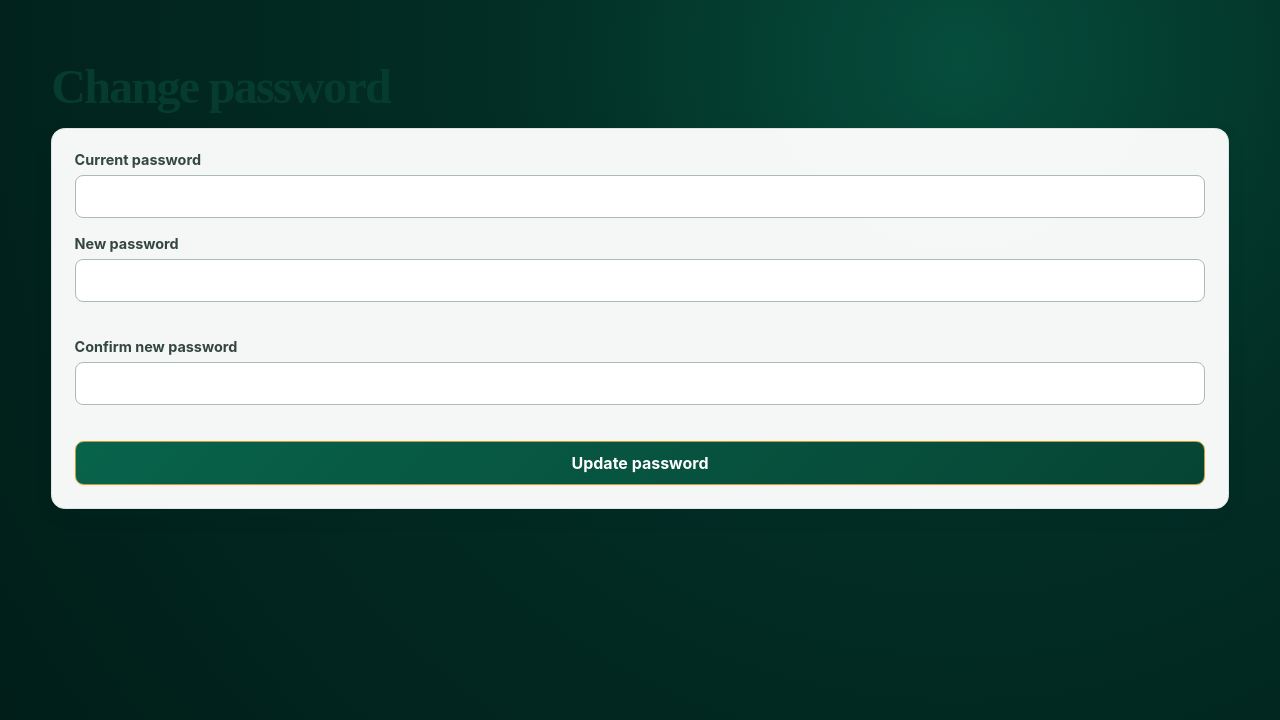
authentication lifecycle › forced password change validates policy before submission
The width and height of the screenshot is (1280, 720).
Type "CurrentSecure1!" into the password field labelled "Current password" at (640, 197), box x1=75 y1=175 x2=1205 y2=218
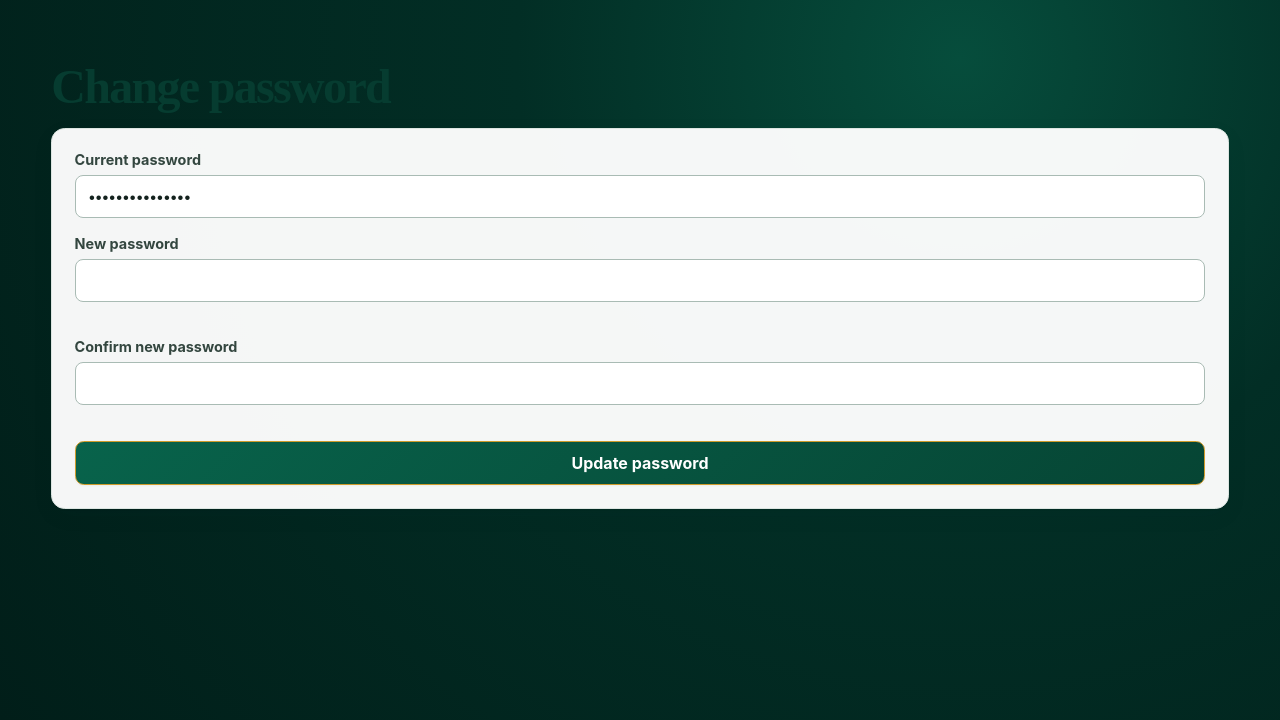
Type "weak" into the password field labelled "New password" at (640, 281), box x1=75 y1=259 x2=1205 y2=302
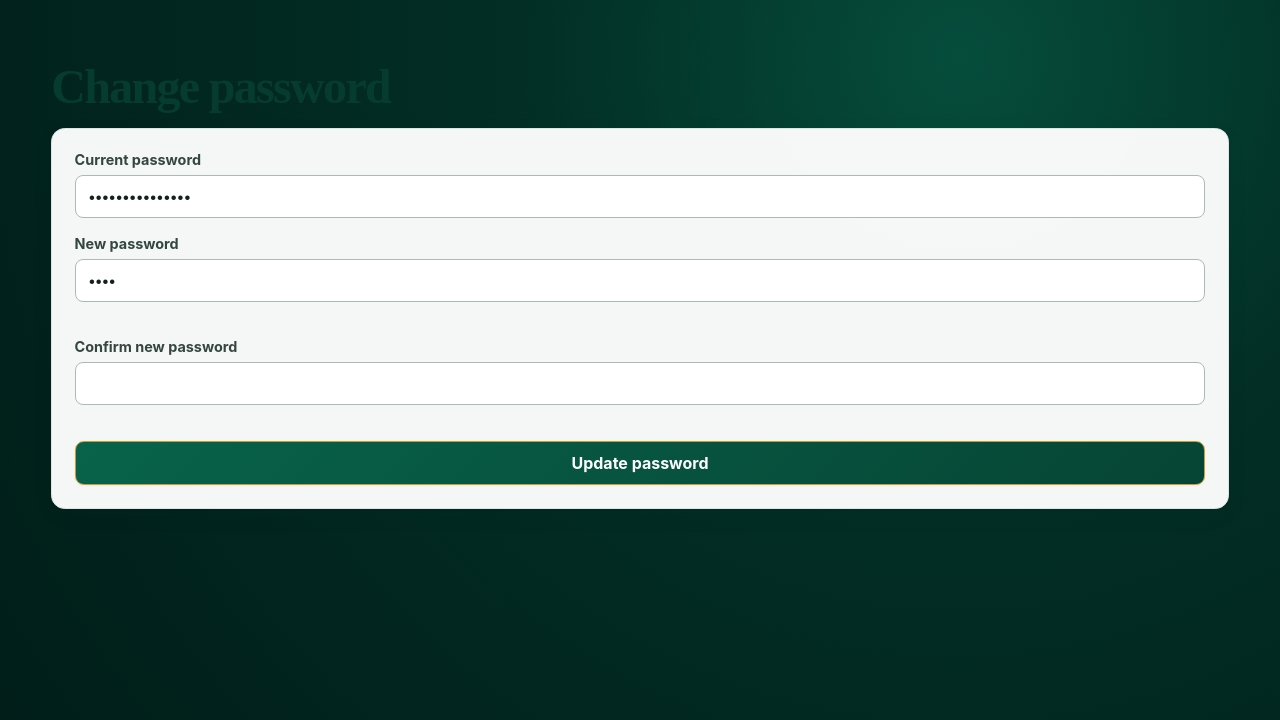
Type "different" into the password field labelled "Confirm new password" at (640, 384), box x1=75 y1=362 x2=1205 y2=405
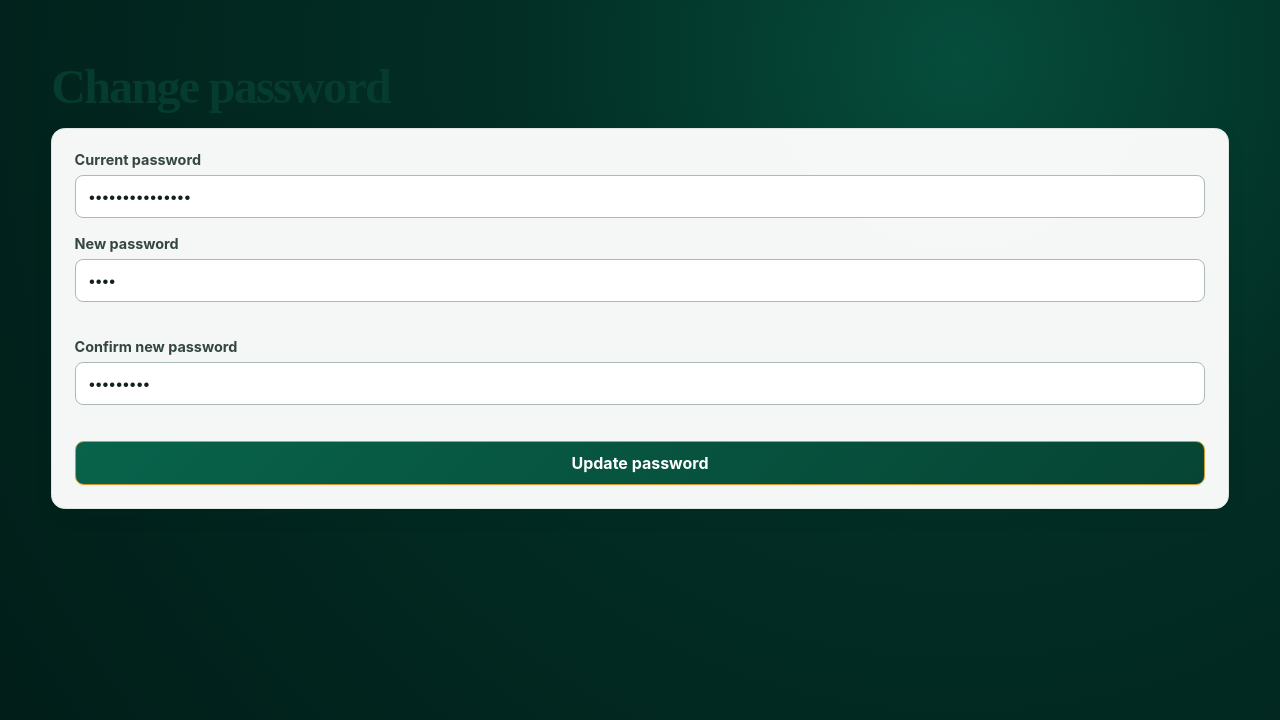
Click the button "Update password" at (640, 463), box x1=75 y1=441 x2=1205 y2=485
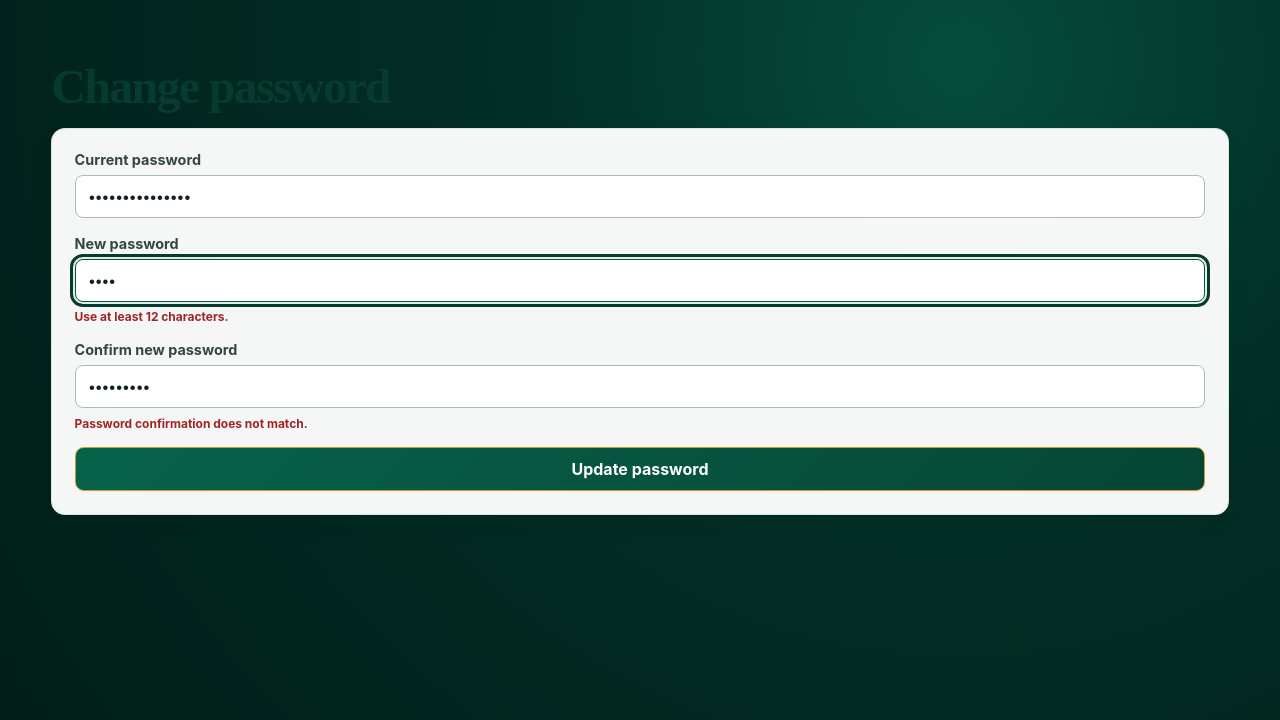
Expected: the text "Use at least 12 characters." is shown, x1=75 y1=309 x2=229 y2=324
